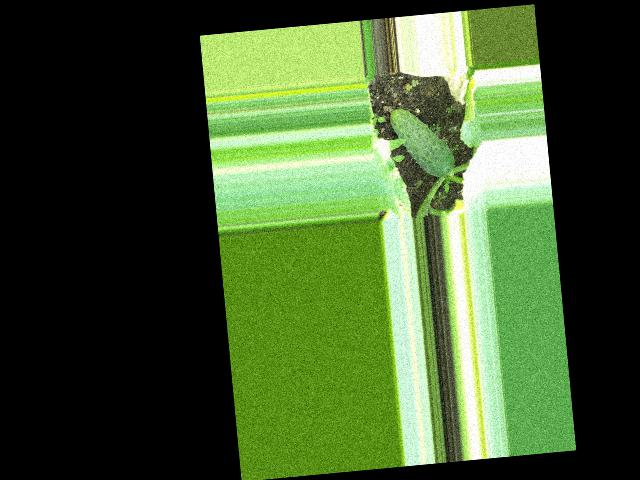cucumber: (388, 104, 456, 182)
